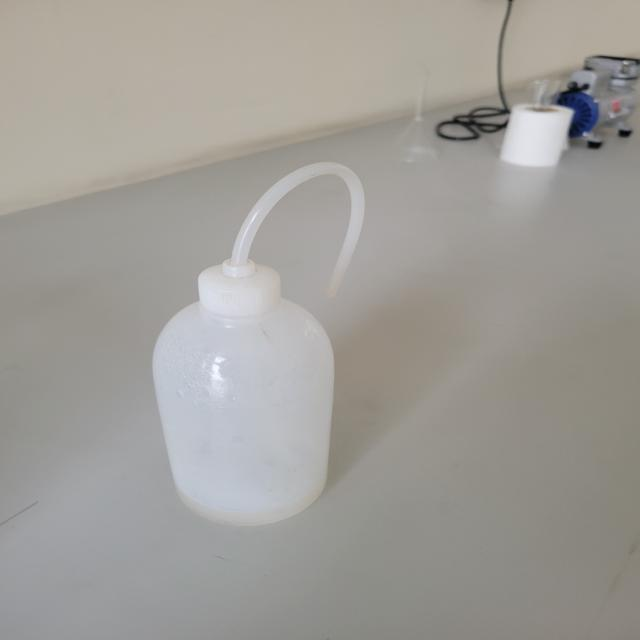Wash_Bottle: (72, 145, 430, 546)
